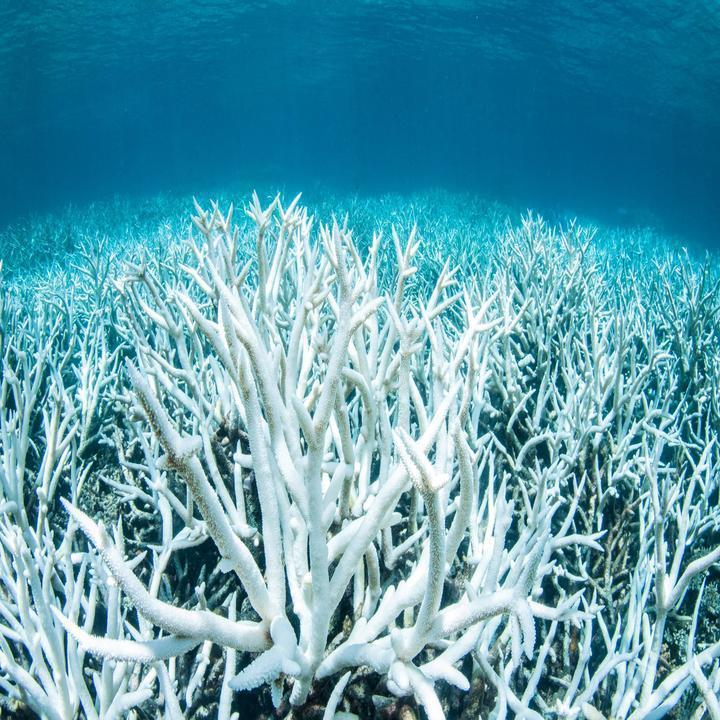Bleached-disease: (32, 168, 646, 720), (1, 347, 156, 720), (536, 230, 681, 616)
